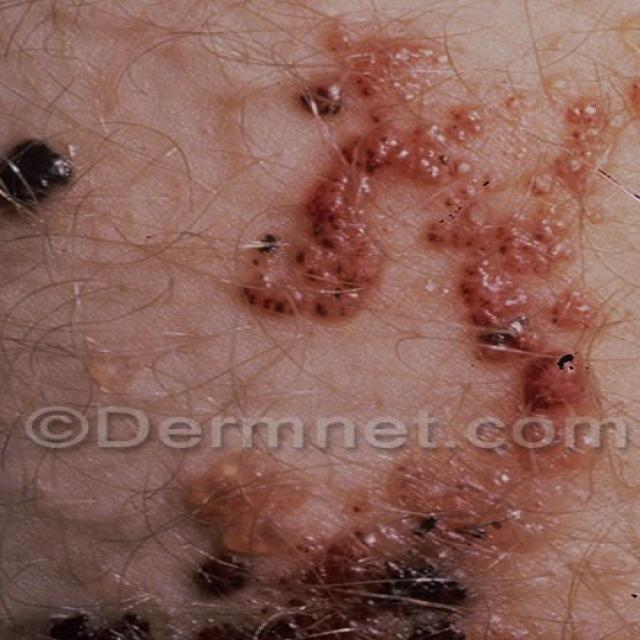Vascular Tumors: (247, 12, 640, 457), (0, 471, 640, 640)
